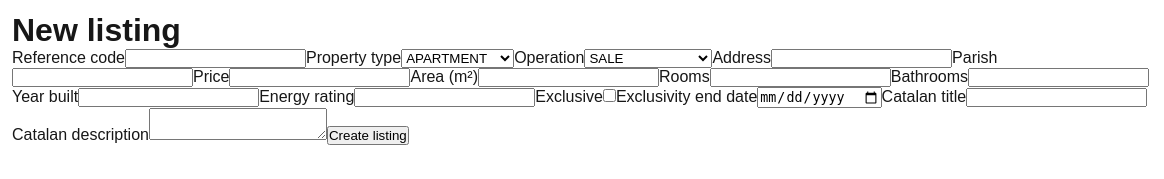
Test: New listing page › shows a validation error when reference code, price, or the Catalan title is missing
Click the button "Create listing". click: (368, 136)
box: [327,126,409,145]
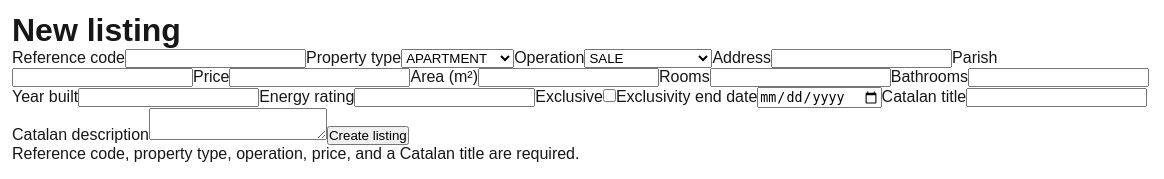
Now the text "required" is shown, box [12,145,580,162]
